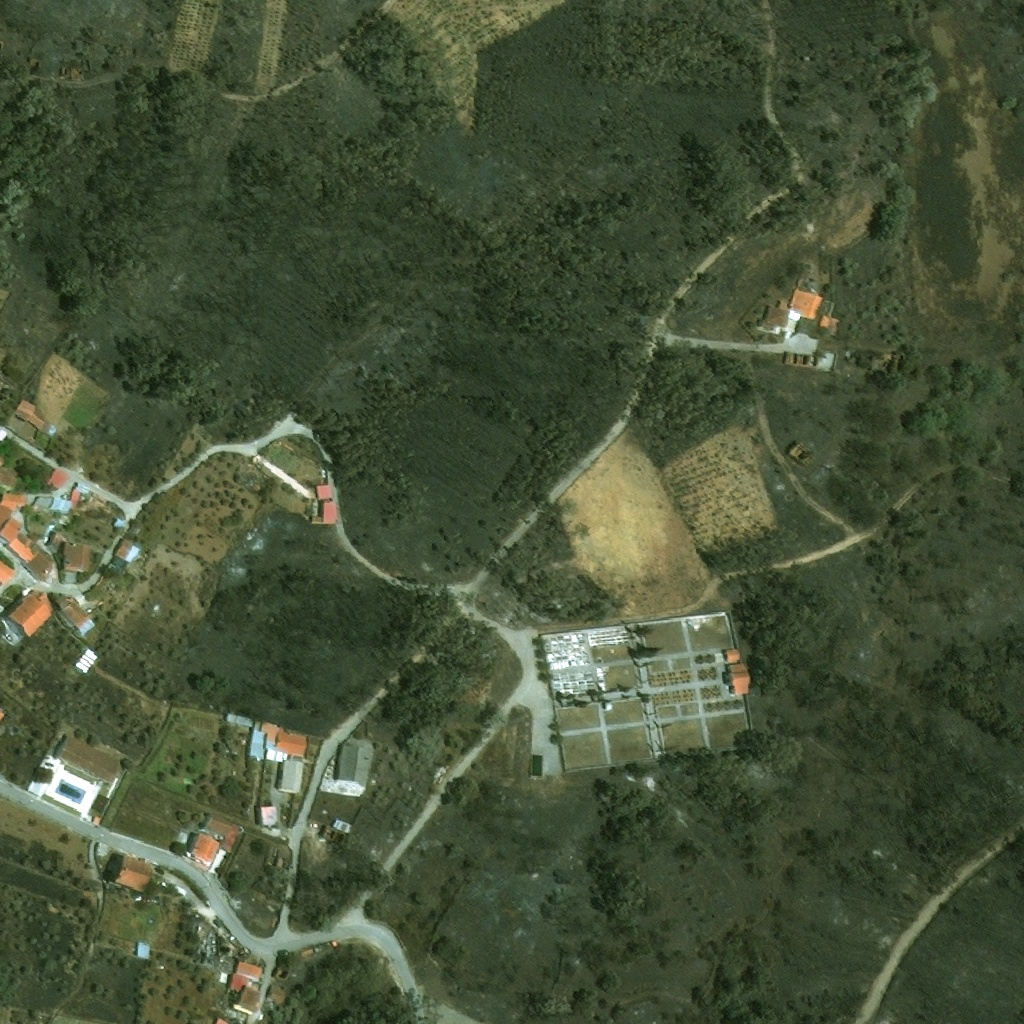0 no-damage: (0, 492, 57, 581), (761, 270, 823, 329), (57, 736, 120, 783), (2, 589, 56, 639), (249, 718, 308, 762), (231, 958, 264, 1012), (56, 593, 95, 635), (34, 483, 90, 512), (112, 855, 153, 892), (106, 538, 142, 578), (340, 743, 372, 783), (15, 398, 49, 429), (279, 756, 303, 792), (193, 832, 221, 862), (324, 817, 353, 845), (63, 542, 90, 571), (729, 663, 752, 694), (76, 648, 102, 673), (206, 814, 233, 836), (0, 455, 18, 487), (784, 351, 818, 367), (45, 466, 68, 489), (91, 795, 112, 815), (0, 557, 16, 583), (273, 960, 291, 982), (261, 805, 279, 824), (323, 502, 337, 521), (820, 315, 839, 329), (276, 855, 291, 870), (317, 486, 330, 499), (726, 648, 740, 660), (138, 942, 149, 957)
4 un-classified: (0, 378, 13, 401), (0, 428, 8, 443), (297, 1015, 309, 1023), (0, 710, 8, 722)
